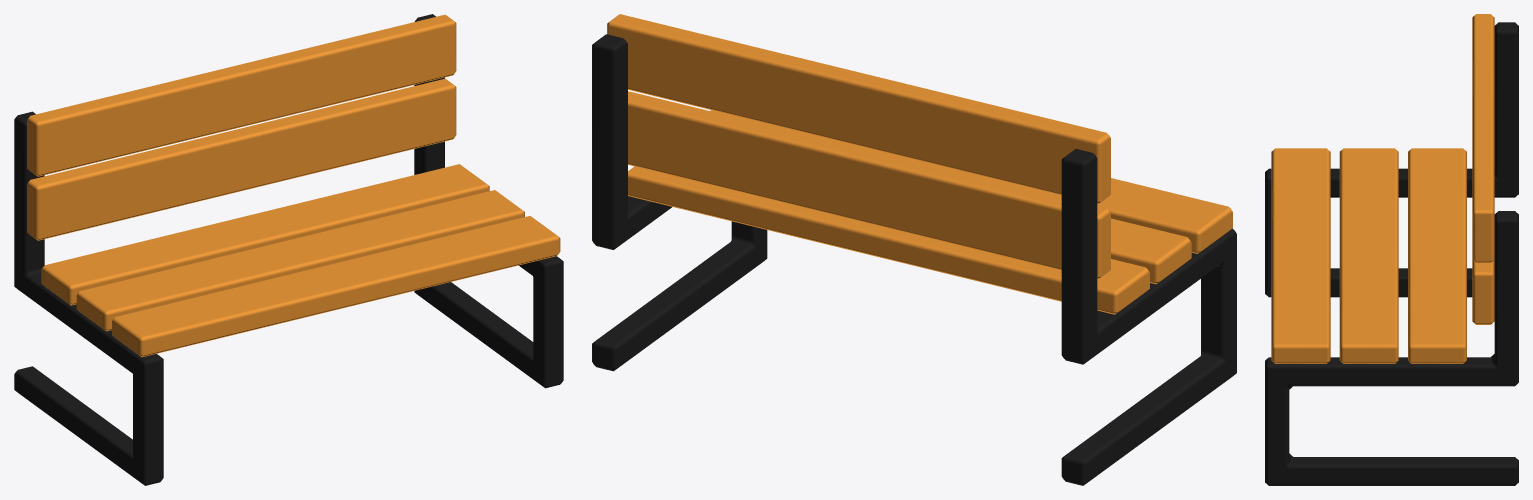
File: cast-iron-wooden-park-bench.glb
3 renders of one model, left to right at view 1: azimuth 30°, elevation 25°; view 2: azimuth 150°, elevation 25°; view 3: azimuth 270°, elevation 25°, orthographic. The views are drawn at different scales.
Parts seen in each view (by area): view 1: Plank_Metal_Bench; view 2: Plank_Metal_Bench; view 3: Plank_Metal_Bench.
Part boxes in pixels (left/top/right/bottom): Plank_Metal_Bench: left=14, top=14, right=563, bottom=485; Plank_Metal_Bench: left=592, top=14, right=1236, bottom=485; Plank_Metal_Bench: left=1265, top=14, right=1518, bottom=485.
Size of the model in its own units: 1.2 by 0.778 by 0.6478.
Materials: 2 (2 with a texture image).
